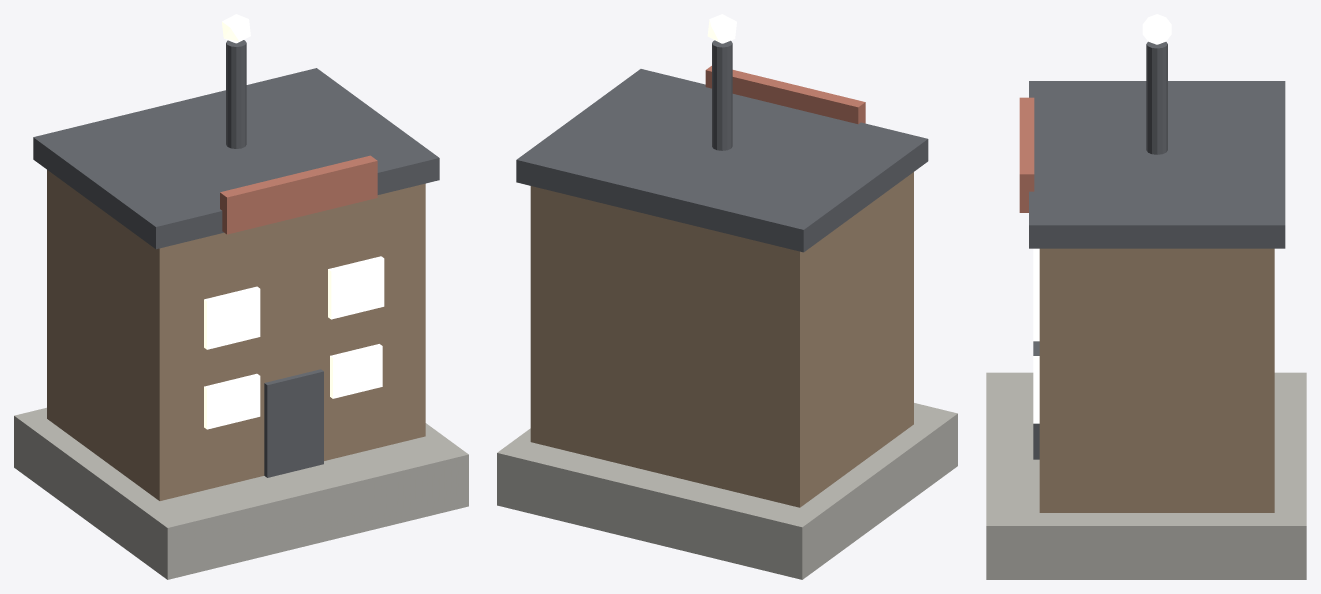
The model's file is LM20_Newsroom.glb.
3 views of the same model, side by side, from view 1: azimuth 30°, elevation 25°; view 2: azimuth 150°, elevation 25°; view 3: azimuth 270°, elevation 25° (orthographic). The views are drawn at different scales.
Parts seen in each view (by area): view 1: Room, RoofSlab, Base.006, Sign, Door, WinB.001, WinA.001, WinC.001, WinD, Antenna, Tip; view 2: Room, RoofSlab, Base.006, Sign, Antenna, Tip; view 3: Room, RoofSlab, Base.006, Antenna, Sign, Tip, WinB.001, WinD.
Part boxes in pixels (x1,y1,x2,y2): Room: (47, 170, 425, 500); RoofSlab: (33, 68, 439, 249); Base.006: (14, 407, 468, 579); Sign: (220, 155, 377, 234); Door: (264, 369, 323, 477); WinB.001: (328, 256, 384, 319); WinA.001: (204, 286, 260, 349); WinC.001: (204, 373, 260, 429); WinD: (330, 344, 382, 398); Antenna: (226, 40, 246, 148); Tip: (222, 14, 250, 43); Room: (530, 172, 913, 507); RoofSlab: (516, 69, 928, 252); Base.006: (497, 403, 957, 579); Sign: (705, 66, 865, 124); Antenna: (712, 40, 732, 150); Tip: (707, 14, 736, 43); Room: (1039, 248, 1274, 512); RoofSlab: (1029, 81, 1285, 248); Base.006: (986, 372, 1306, 579); Antenna: (1146, 41, 1167, 154); Sign: (1019, 97, 1034, 212); Tip: (1142, 14, 1171, 44); WinB.001: (1033, 264, 1039, 341); WinD: (1033, 356, 1039, 423).
Size of the model in its own units: 1.7 by 2.53 by 1.5.
